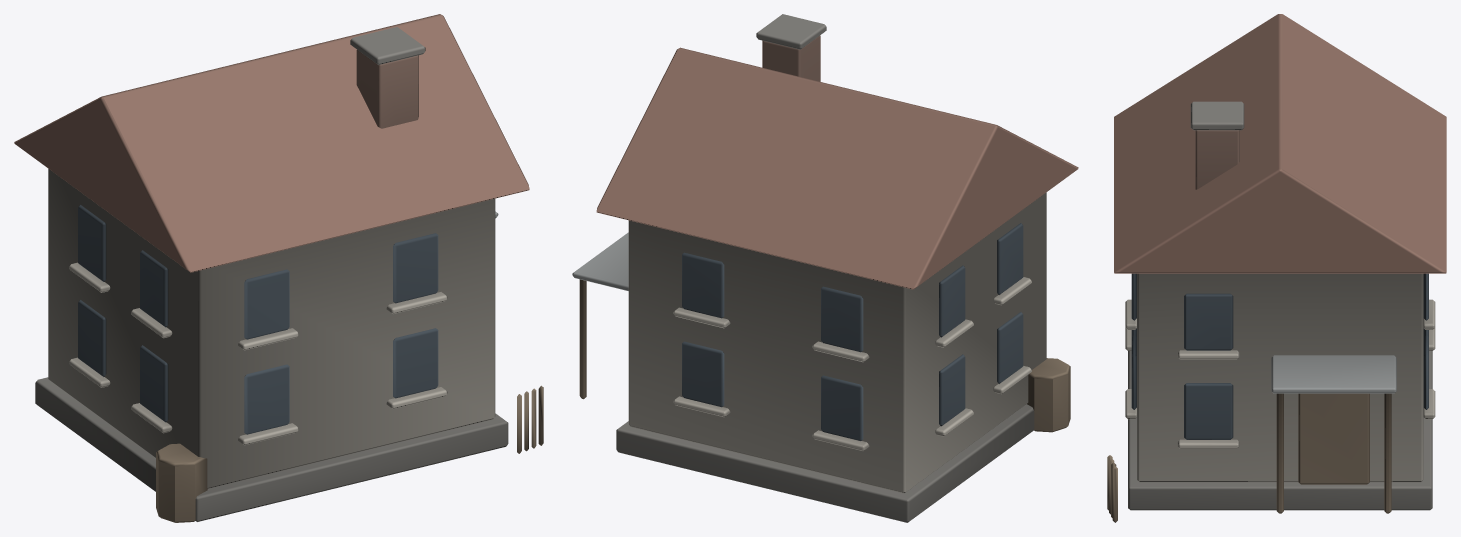
The model's file is civilian_house.glb.
3 views of the same model, side by side, from view 1: azimuth 30°, elevation 25°; view 2: azimuth 150°, elevation 25°; view 3: azimuth 270°, elevation 25° (orthographic). The views are drawn at different scales.
Parts seen in each view (by area): view 1: Body; view 2: Body; view 3: Body.
Part boxes in pixels (x1=…): Body: x1=14, y1=14, x2=543, y2=522; Body: x1=572, y1=14, x2=1078, y2=522; Body: x1=1107, y1=14, x2=1446, y2=522.
Size of the model in its own units: 4.88 by 4.5 by 3.79.
